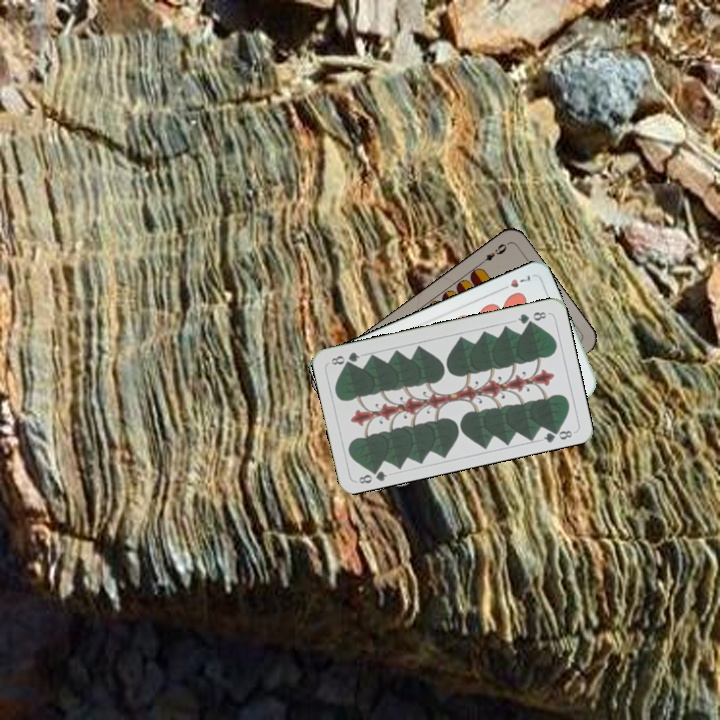E9: (475, 239, 511, 267)
G8: (355, 463, 390, 487), (514, 307, 549, 327)
H7: (496, 271, 533, 293)
